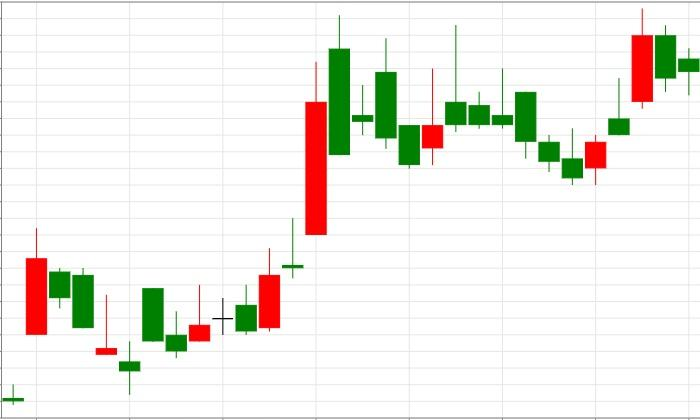inverse_hammer_rise: (445, 25, 582, 184)
